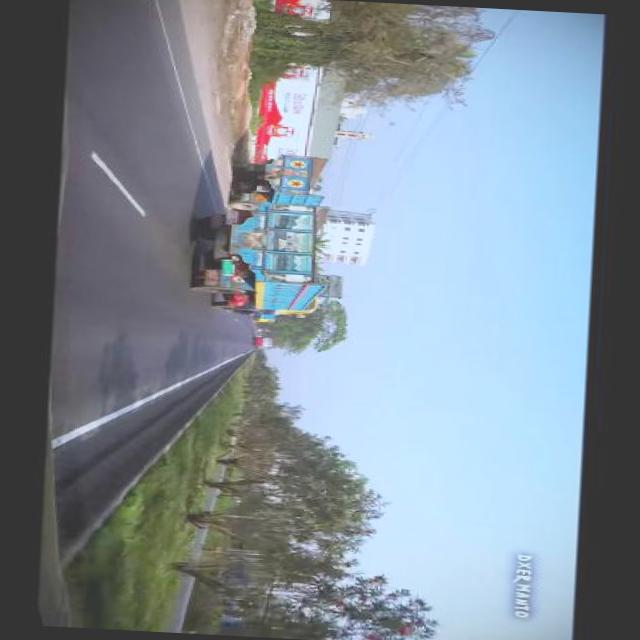bus: (253, 336, 275, 346)
truck: (190, 198, 340, 318), (228, 149, 330, 212)
